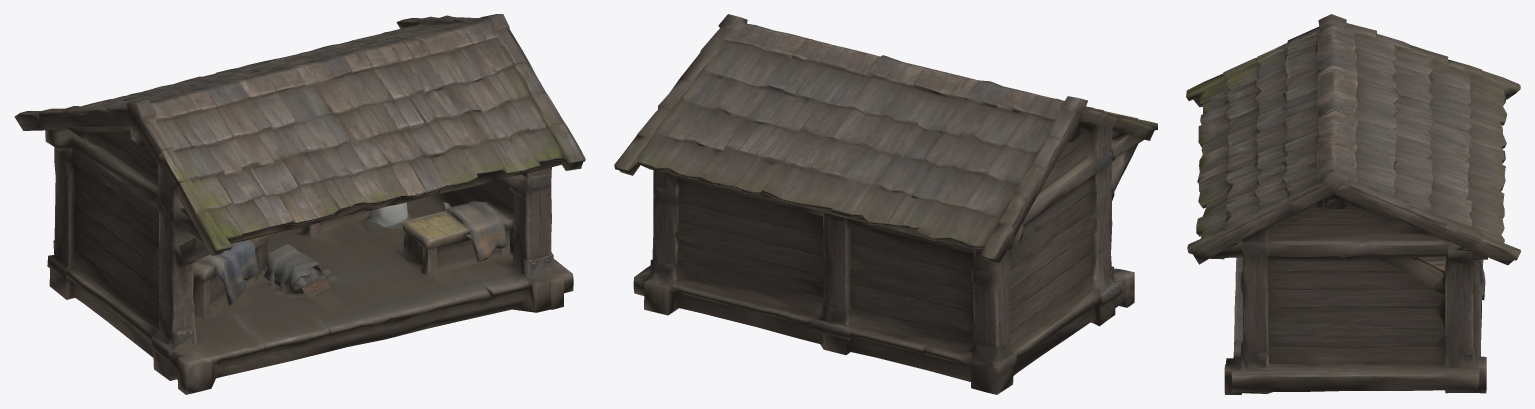
Rendered from cobertizo-refugio.glb.
The picture shows the model from 3 angles, left to right: view 1: azimuth 30°, elevation 25°; view 2: azimuth 150°, elevation 25°; view 3: azimuth 270°, elevation 25°; orthographic projection. The views are drawn at different scales.
Visible parts, largest first — view 1: tripo_node_38d8ec71-b5dc-45c8-a9f9-d40f2bd6a9f8; view 2: tripo_node_38d8ec71-b5dc-45c8-a9f9-d40f2bd6a9f8; view 3: tripo_node_38d8ec71-b5dc-45c8-a9f9-d40f2bd6a9f8.
Part boxes in pixels (bbox=[...]): tripo_node_38d8ec71-b5dc-45c8-a9f9-d40f2bd6a9f8: bbox=[14, 14, 585, 394]; tripo_node_38d8ec71-b5dc-45c8-a9f9-d40f2bd6a9f8: bbox=[614, 14, 1157, 394]; tripo_node_38d8ec71-b5dc-45c8-a9f9-d40f2bd6a9f8: bbox=[1186, 14, 1520, 394].
Bounding box in the file's own units: 1 × 0.602 × 0.8162.
1 material, 1 textured.
